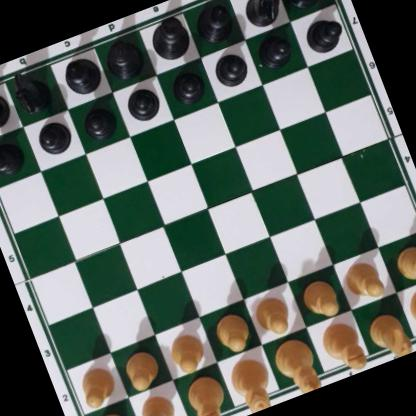black-bishop: (189, 0, 240, 49), (57, 53, 107, 100)
black-king: (142, 11, 195, 66)
black-knight: (6, 64, 54, 119), (236, 0, 288, 33)
black-pawn: (300, 11, 347, 57), (252, 29, 296, 73), (32, 115, 75, 159), (209, 46, 252, 90), (122, 83, 164, 125), (78, 100, 119, 143), (167, 65, 207, 108), (0, 136, 26, 178)
black-queen: (99, 31, 150, 86)
black-rook: (0, 82, 14, 137), (279, 0, 334, 11)
white-bishop: (316, 317, 368, 377), (181, 370, 231, 416)
white-king: (269, 333, 326, 400)
white-knight: (363, 307, 412, 363), (134, 391, 182, 416)
white-pawn: (249, 292, 297, 343), (340, 255, 388, 304), (73, 363, 119, 411), (164, 329, 209, 377), (297, 275, 341, 322), (210, 309, 254, 356), (119, 347, 163, 392), (392, 239, 416, 287)
white-queen: (223, 351, 280, 416)
white-rook: (405, 278, 416, 345), (82, 405, 139, 416)
